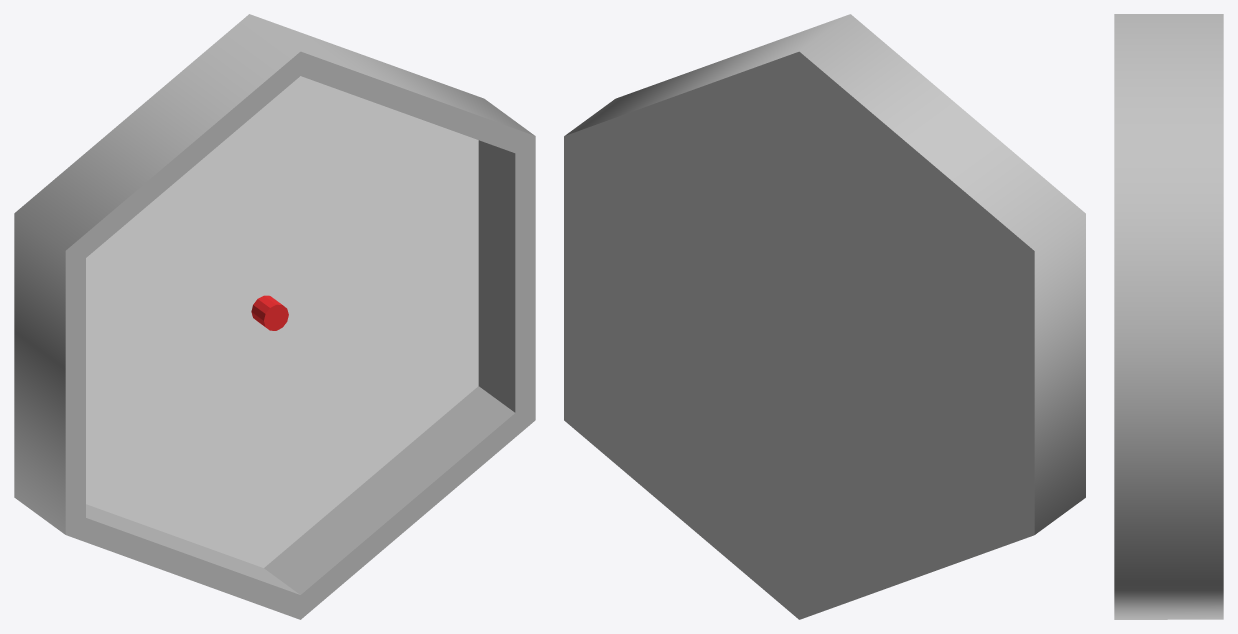
Rendered from Itr_Obj_clock2_01.FBX.
3 views of the same model, side by side, from view 1: azimuth 30°, elevation 25°; view 2: azimuth 150°, elevation 25°; view 3: azimuth 270°, elevation 25° (orthographic). The views are drawn at different scales.
Parts seen in each view (by area): view 1: Itr_Obj_clock2_01; view 2: Itr_Obj_clock2_01; view 3: Itr_Obj_clock2_01.
Boxes of the visible parts, box(x1,y1,x2,y2) form: Itr_Obj_clock2_01: box(14, 14, 535, 619); Itr_Obj_clock2_01: box(564, 14, 1085, 619); Itr_Obj_clock2_01: box(1114, 14, 1223, 619).
Bounding box in the file's own units: 10.59 × 12.23 × 2.
